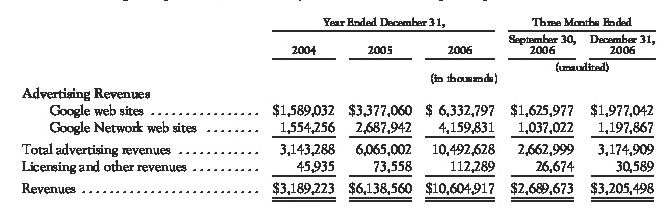table: (0, 0, 671, 220)
